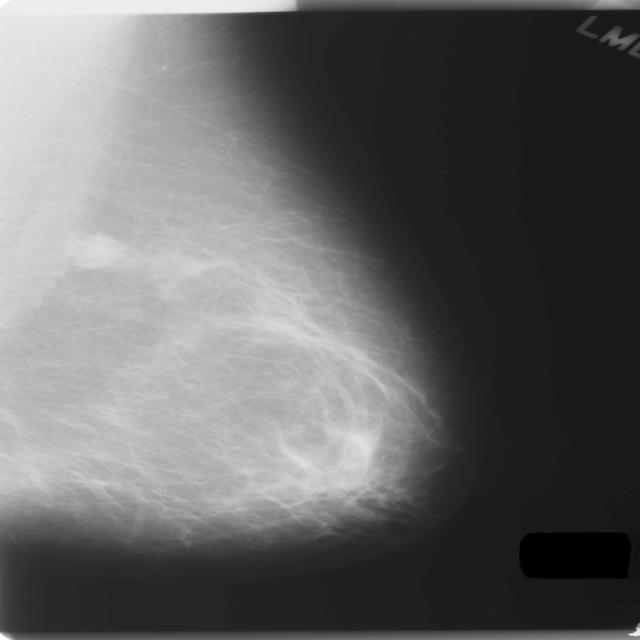tumour: (64, 233, 121, 270)
